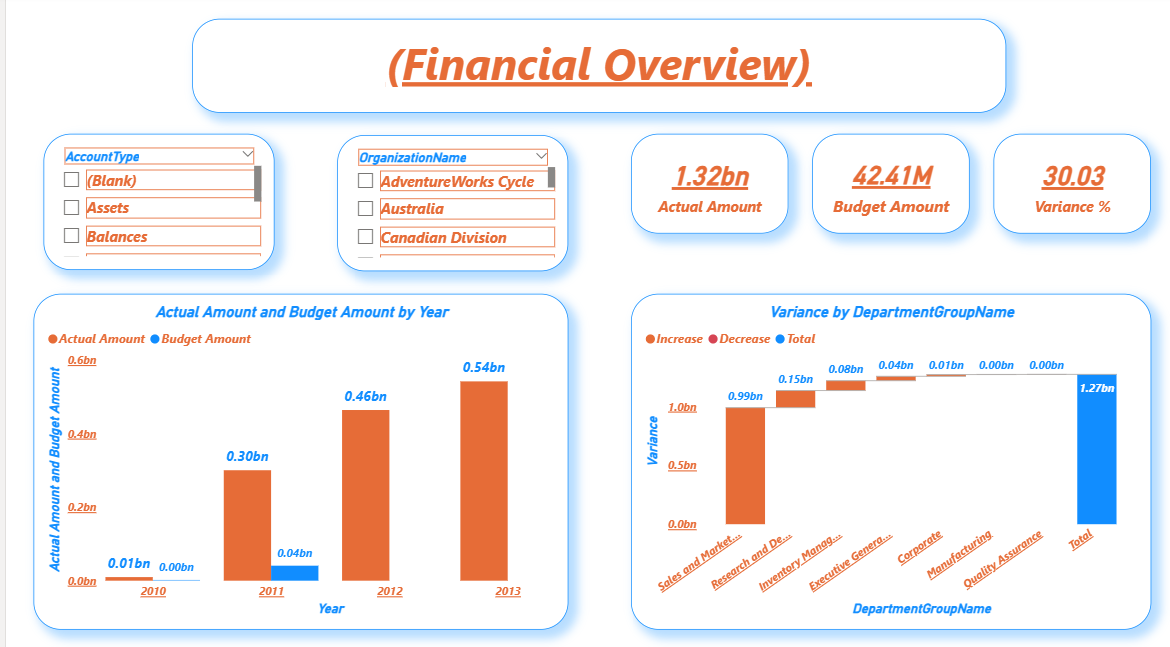

The page's visual inventory and layout, read from the dashboard file:
{"tool":"powerbi","page":{"name":"Financial Overview","canvas":[1280,720],"ordinal":0},"visuals":[{"type":"textbox","box":[204.5,26.1,893.3,102.9],"z":0},{"type":"card","fields":{"Values":["FactFinance.Actual Amount"]},"box":[686.1,152.3,172.9,109.8],"z":2},{"type":"card","fields":{"Values":["FactFinance.Variance %"]},"box":[1084.1,152.3,172.9,109.8],"z":3},{"type":"card","fields":{"Values":["FactFinance.Budget Amount"]},"box":[885.1,152.3,172.9,109.8],"z":5},{"type":"clusteredColumnChart","fields":{"Category":["FactFinance.Date.Variation.Date Hierarchy.Year"],"Y":["FactFinance.Actual Amount","FactFinance.Budget Amount"]},"box":[30.2,328,587.3,369.1],"z":6},{"type":"waterfallChart","fields":{"Y":["FactFinance.Variance"],"Category":["DimDepartmentGroup.DepartmentGroupName"]},"box":[686.1,328,570.8,369.1],"z":7},{"type":"slicer","fields":{"Values":["DimAccount.AccountType"]},"box":[41.2,152.3,253.9,149.6],"z":8},{"type":"slicer","fields":{"Values":["DimOrganization.OrganizationName"]},"box":[363.6,153.7,253.9,149.6],"z":9}]}

Visuals, with their boxes in screenshot pixels (x1, y1, x2, y2), scaled from the page's 1280x720 canvas onto the 1170x647 screenshot:
textbox: [187,23,1003,116]
card - FactFinance.Actual Amount: [627,137,785,236]
card - FactFinance.Variance %: [991,137,1149,236]
card - FactFinance.Budget Amount: [809,137,967,236]
clusteredColumnChart - FactFinance.Date.Variation.Date Hierarchy.Year x FactFinance.Actual Amount: [28,295,564,626]
waterfallChart - FactFinance.Variance x DimDepartmentGroup.DepartmentGroupName: [627,295,1149,626]
slicer - DimAccount.AccountType: [38,137,270,271]
slicer - DimOrganization.OrganizationName: [332,138,564,273]
